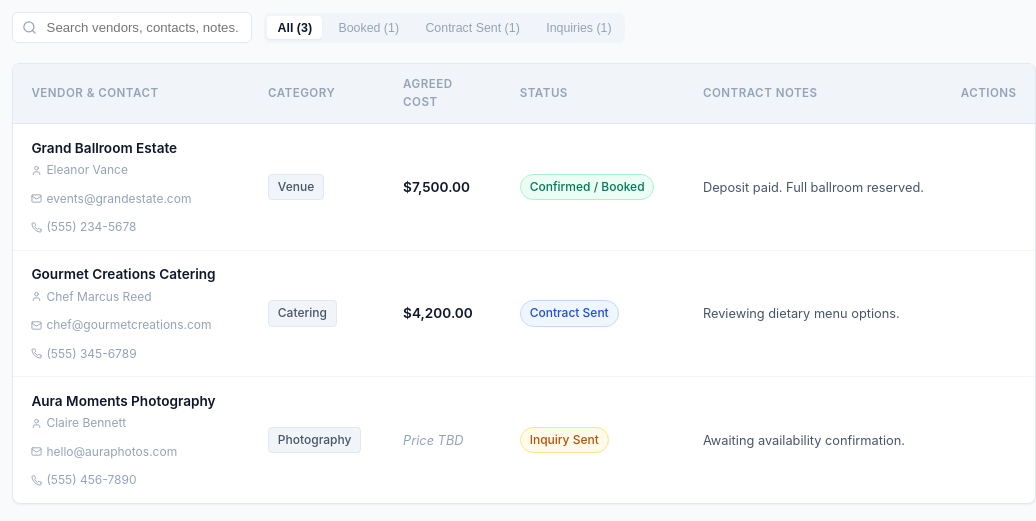
Test case: VendorBookingTable Component (Sub-Task 3.6.2) › renders 'No Matching Vendors' filter empty state and clears filters
Step 1. Type "nonexistent term" into the field with placeholder "Search vendors, contacts, notes..." → point(132, 28), box [12,12,252,43]
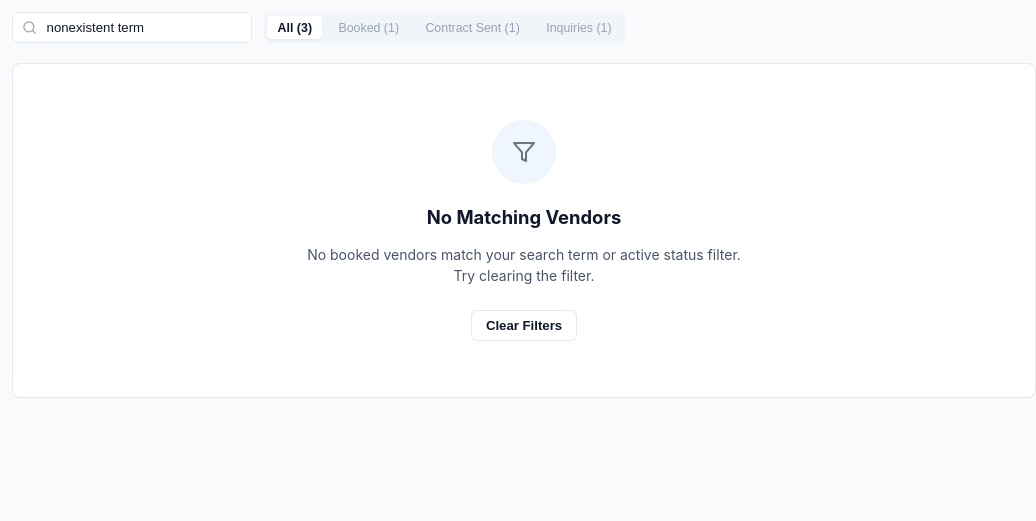
Expected: the element with test id "vendors-filter-empty" is shown
Expected: the heading "No Matching Vendors" is shown, [427,204,621,232]
Note: Clear filters
Step 2. Click the button "Clear Filters" → point(524, 326), box [471,310,577,341]
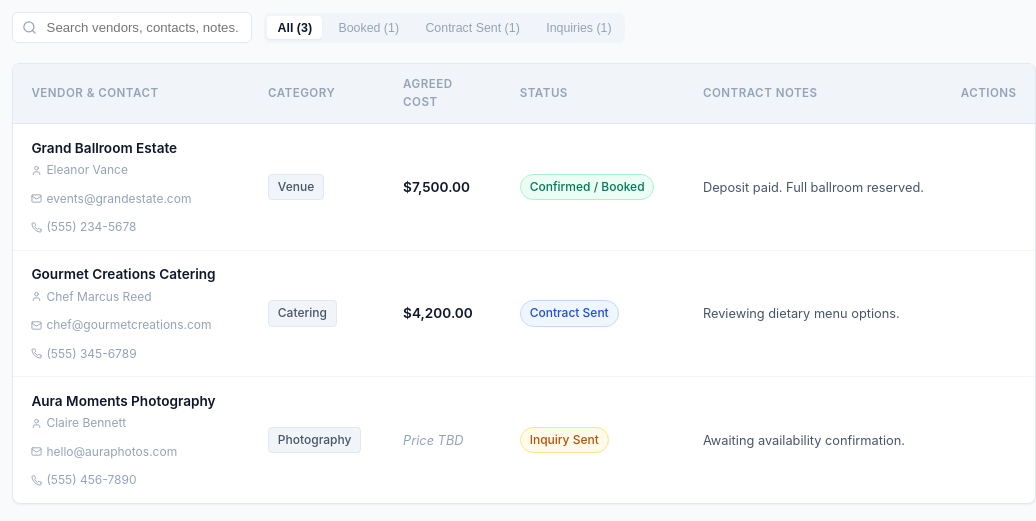
Expected: the text "Grand Ballroom Estate" is shown, [31,140,177,156]
Expected: the text "Gourmet Creations Catering" is shown, [31,264,231,285]
Expected: the text "Aura Moments Photography" is shown, [31,391,231,411]
